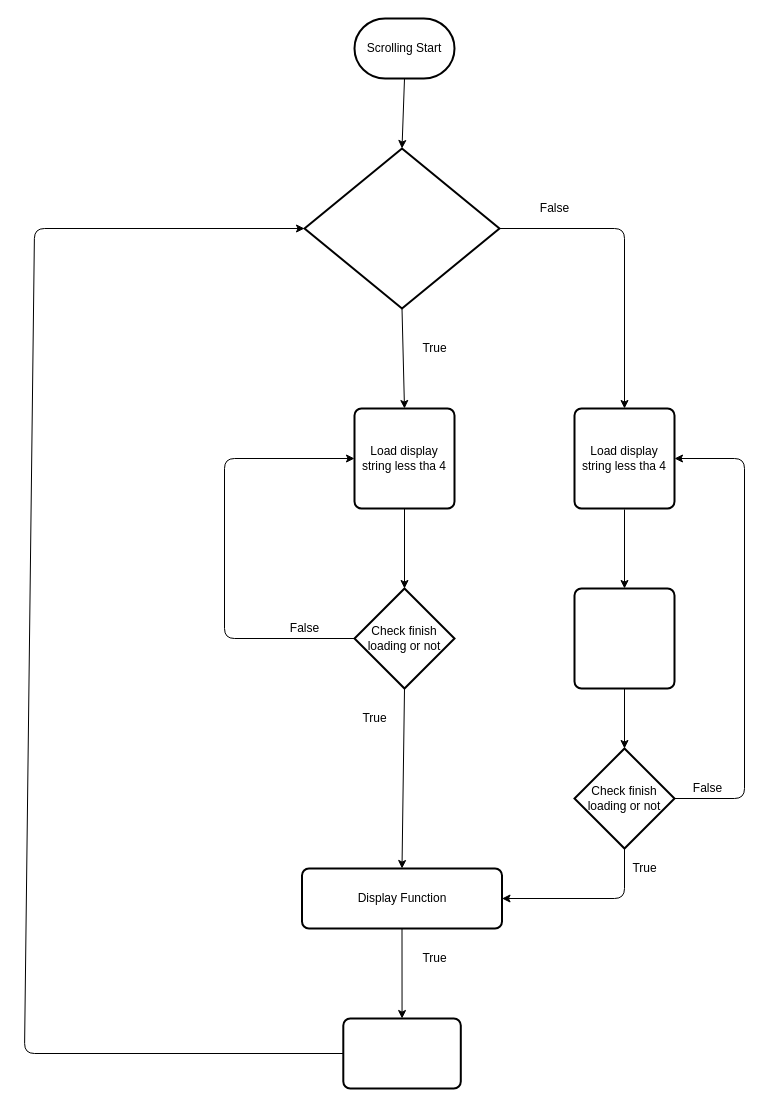
This 770x1106 diagram has some shape labels left out. Each missing label, with the centre of its shape:
"Change X to the tail of the string if the next char is from the back" belongs at (x=624, y=638).
"Check if the number to display is less than 4" belongs at (x=401, y=228).
"Show the current string for 0.5 second" belongs at (x=401, y=1053).
